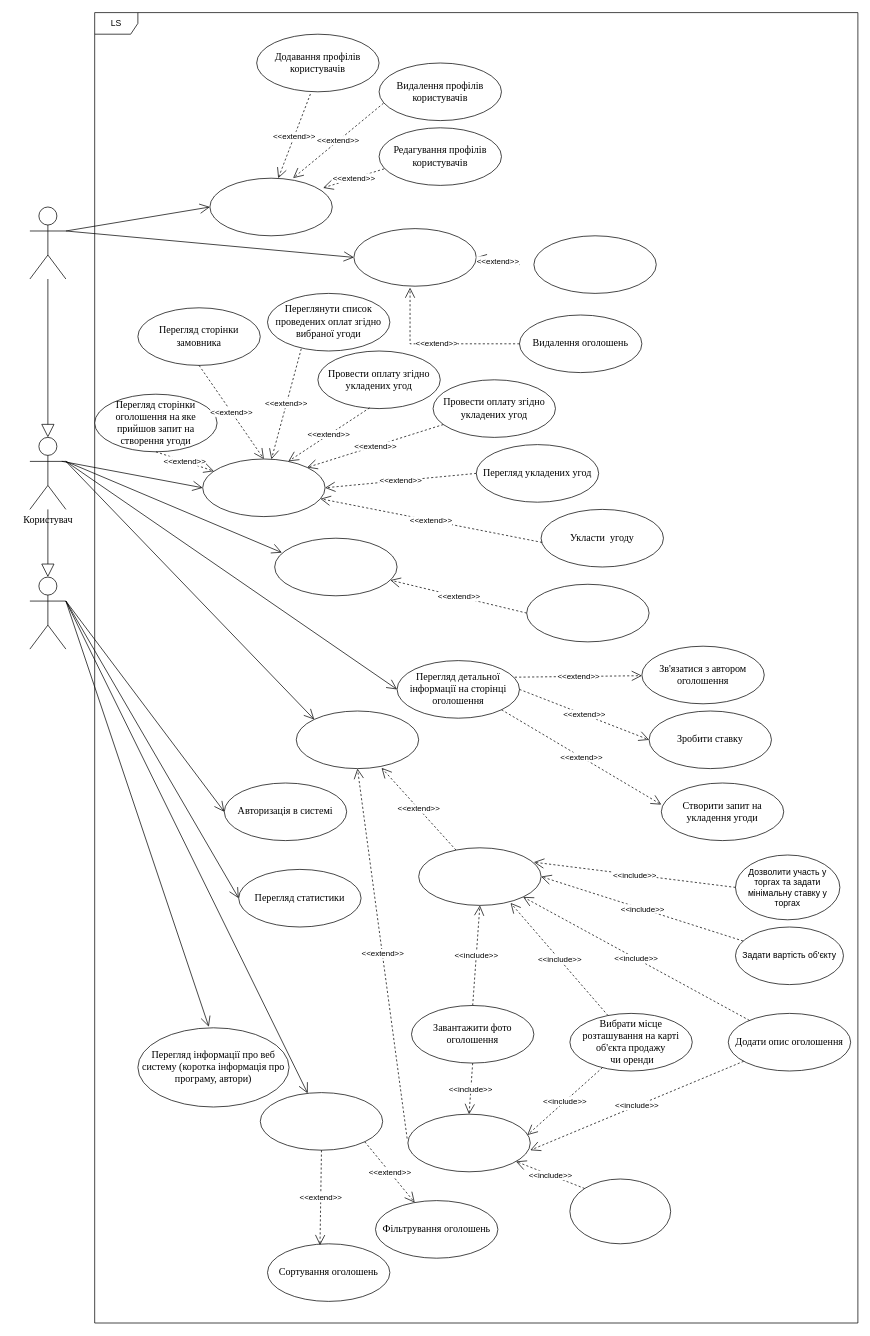
Image size: 870x1336. Some labels were removed from this diagram. Here are the shapes that lost their labels. From the top down, the centre of each, then its label:
At point (270, 206): "Керування обліковими записами користувачів".
At point (47, 242): "Адміністратор".
At point (414, 257): "Керування оголошеннями".
At point (594, 264): "Редагування оголошень".
At point (263, 487): "Перейти на сторінку перегляду списку угод".
At point (335, 566): "Вхід на сторінку користувача".
At point (47, 612): "Неавторизований користувач".
At point (587, 613): "Редагувати профіль".
At point (357, 739): "Створити нове оголошення".
At point (479, 876): "Створити оголошення продажу".
At point (321, 1121): "Перегляд списку оголошень".
At point (468, 1142): "Створити оголошення оренди".
At point (620, 1211): "Задати вартість помісячної оплати відповідно до кількості місяців оренди".
